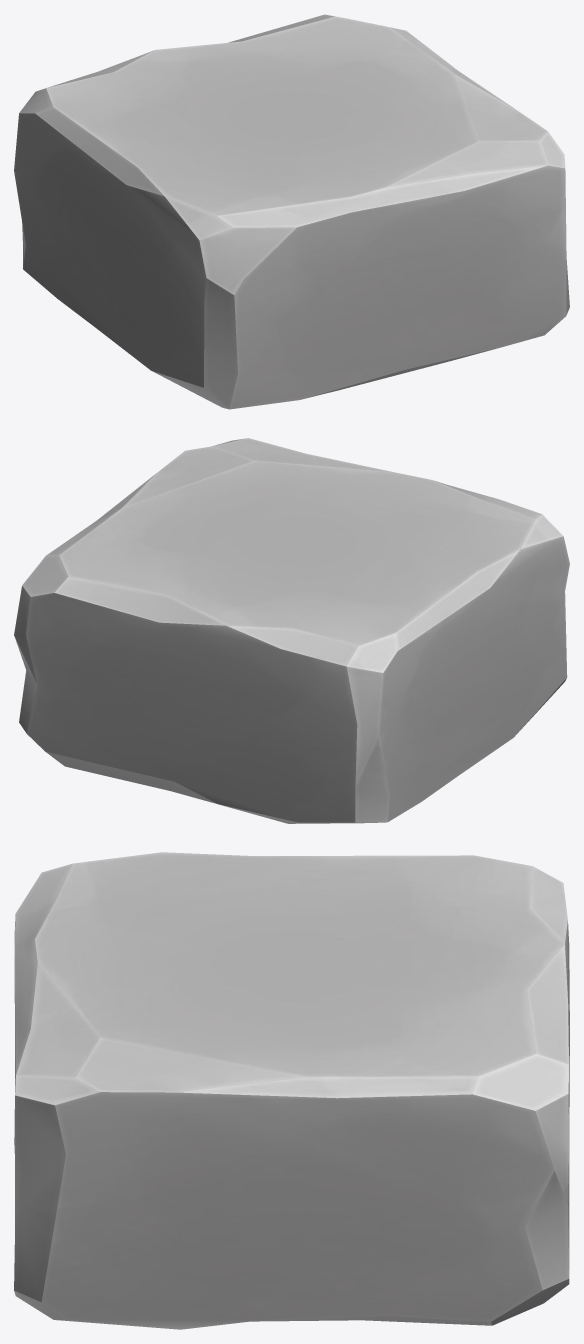
The model's file is GoalTile.gltf.
The picture shows the model from 3 angles, top to bottom: view 1: azimuth 30°, elevation 25°; view 2: azimuth 150°, elevation 25°; view 3: azimuth 270°, elevation 25°; orthographic projection. The views are drawn at different scales.
Visible parts, largest first — view 1: Cube_Material_0; view 2: Cube_Material_0; view 3: Cube_Material_0.
Part boxes in pixels (box(x1,y1,x2,y2)): Cube_Material_0: box(14, 14, 569, 409); Cube_Material_0: box(14, 438, 569, 823); Cube_Material_0: box(14, 852, 569, 1329).
Size of the model in its own units: 2.01 by 1 by 2.
Materials: 1 (1 with a texture image).
